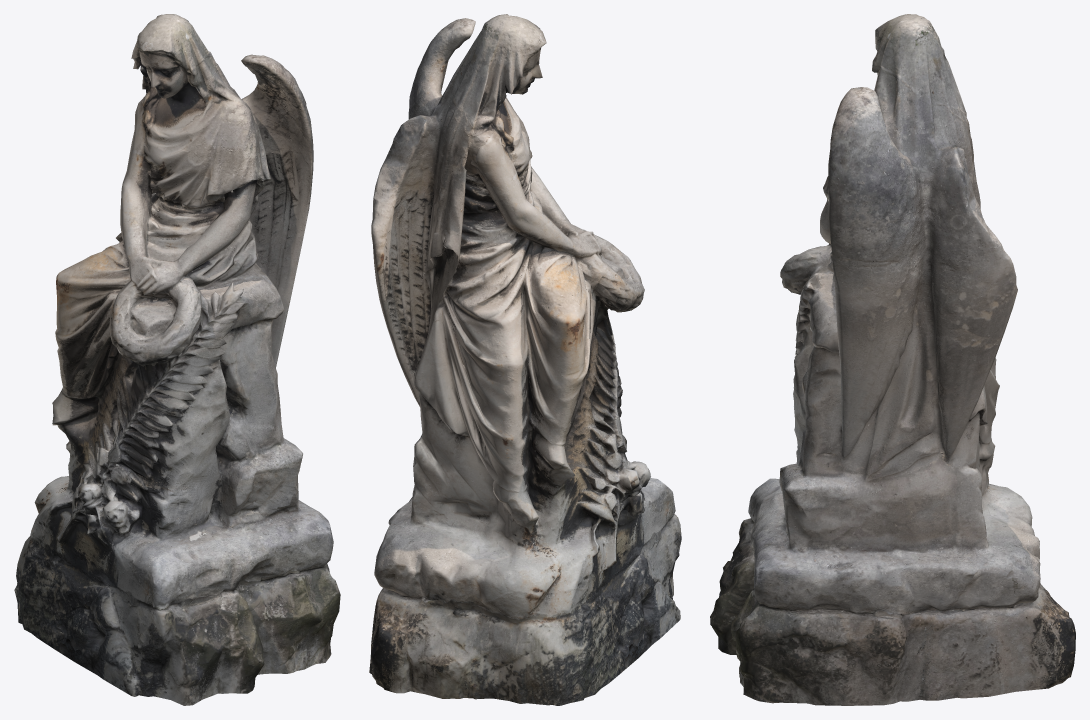
File: sm_GraveSculpture_07_01.fbx
3 views of the same model, side by side, from view 1: azimuth 30°, elevation 25°; view 2: azimuth 150°, elevation 25°; view 3: azimuth 270°, elevation 25° (orthographic). The views are drawn at different scales.
Visible parts, largest first — view 1: sm_GraveSculpture_07_01_LOD0; view 2: sm_GraveSculpture_07_01_LOD0; view 3: sm_GraveSculpture_07_01_LOD0.
Boxes of the visible parts, x1,y1,x2,y2 form: sm_GraveSculpture_07_01_LOD0: (14,14,340,705); sm_GraveSculpture_07_01_LOD0: (369,14,681,705); sm_GraveSculpture_07_01_LOD0: (710,14,1075,705).
Size of the model in its own units: 101 by 134 by 258.
